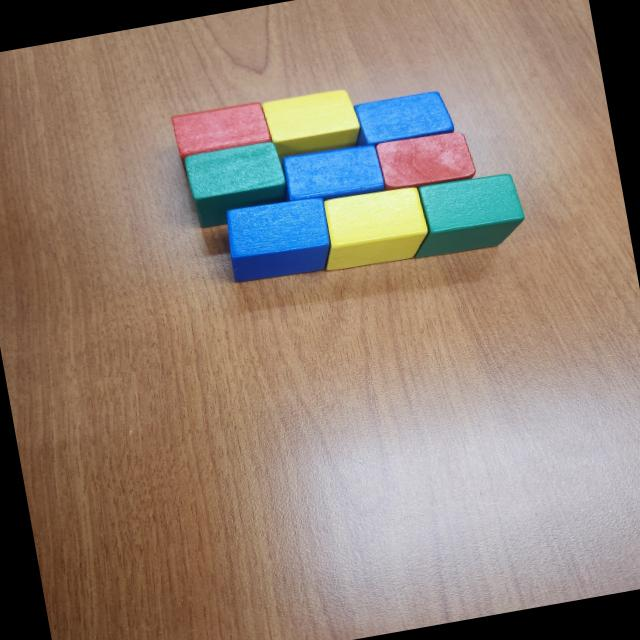blue: (220, 192, 336, 285), (277, 140, 385, 208), (347, 88, 455, 150)
green: (398, 169, 529, 263), (182, 138, 291, 230)
red: (170, 100, 278, 180), (373, 128, 477, 194)
yellow: (312, 182, 433, 273), (260, 86, 364, 161)
